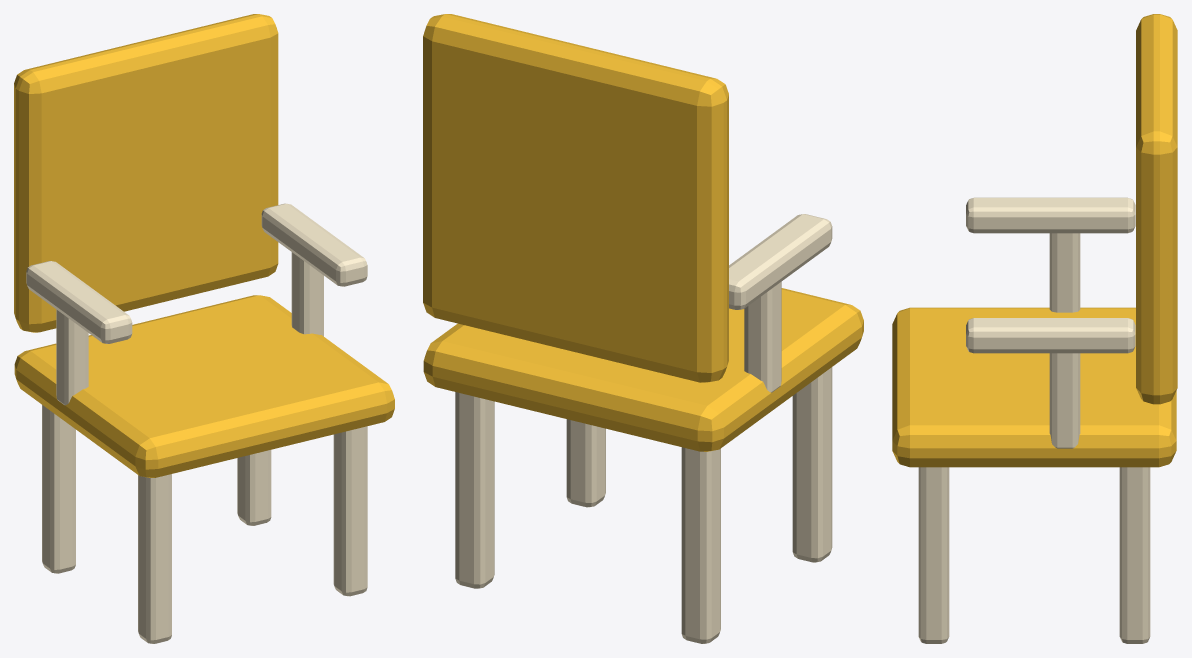
Rendered from conference-chair.glb.
3 views of the same model, side by side, from view 1: azimuth 30°, elevation 25°; view 2: azimuth 150°, elevation 25°; view 3: azimuth 270°, elevation 25° (orthographic). The views are drawn at different scales.
Visible parts, largest first — view 1: Chair_A_Backrest, Chair_A_Seat, Chair_A, Chair_A_Armrest_R, Chair_A_Armrest_L, Chair_A_ArmSupport_L, Chair_A_ArmSupport_R; view 2: Chair_A_Backrest, Chair_A_Seat, Chair_A, Chair_A_Armrest_L, Chair_A_ArmSupport_L; view 3: Chair_A_Seat, Chair_A_Backrest, Chair_A, Chair_A_Armrest_L, Chair_A_Armrest_R, Chair_A_ArmSupport_R, Chair_A_ArmSupport_L.
Boxes of the visible parts, box(x1,y1,x2,y2) form: Chair_A_Backrest: box(14, 14, 278, 332); Chair_A_Seat: box(14, 295, 394, 477); Chair_A: box(42, 405, 367, 643); Chair_A_Armrest_R: box(261, 203, 367, 286); Chair_A_Armrest_L: box(26, 261, 132, 343); Chair_A_ArmSupport_L: box(56, 309, 88, 405); Chair_A_ArmSupport_R: box(291, 252, 323, 336); Chair_A_Backrest: box(423, 14, 728, 382); Chair_A_Seat: box(423, 288, 863, 451); Chair_A: box(455, 367, 832, 643); Chair_A_Armrest_L: box(729, 214, 832, 309); Chair_A_ArmSupport_L: box(744, 282, 781, 392); Chair_A_Seat: box(892, 307, 1176, 467); Chair_A_Backrest: box(1136, 14, 1177, 404); Chair_A: box(918, 467, 1150, 643); Chair_A_Armrest_L: box(966, 197, 1135, 233); Chair_A_Armrest_R: box(966, 318, 1135, 353); Chair_A_ArmSupport_R: box(1049, 353, 1080, 448); Chair_A_ArmSupport_L: box(1049, 233, 1080, 312).
Size of the model in its own units: 2.94 by 5.22 by 2.61.
